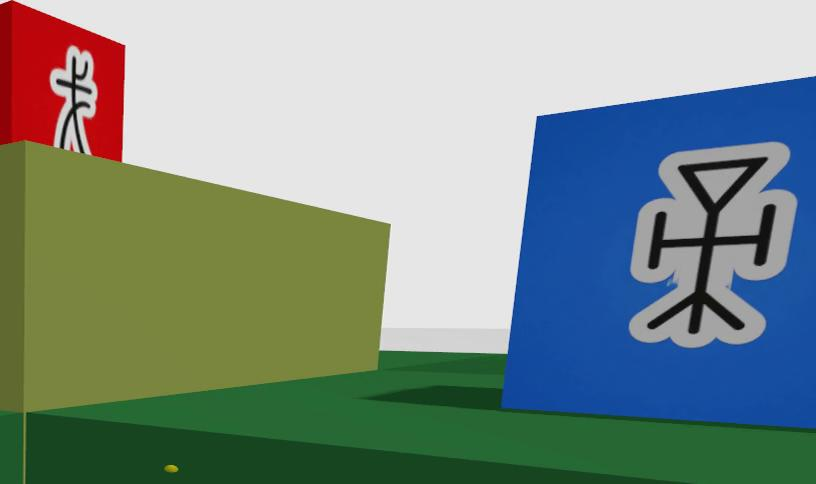KFS_FAKE: (0, 2, 124, 160), (50, 48, 94, 153)
KFS_REAL: (505, 77, 815, 427), (628, 142, 796, 348)
